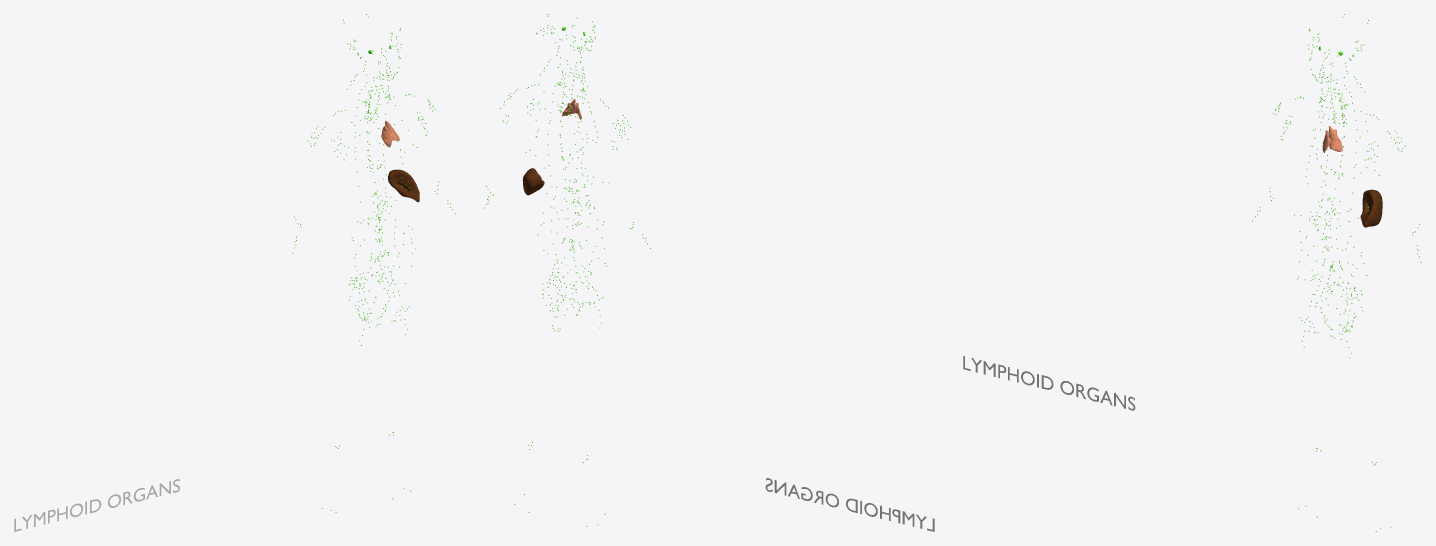
Rendered from lymphatic.glb.
3 views of the same model, side by side, from view 1: azimuth 30°, elevation 25°; view 2: azimuth 150°, elevation 25°; view 3: azimuth 330°, elevation 25° (orthographic). The views are drawn at different scales.
Parts seen in each view (by area): view 1: Lymphoid organs.g.001, Spleen.001; view 2: Lymphoid organs.g.001; view 3: Lymphoid organs.g.001, Spleen.001.
Part boxes in pixels (left/top/right/bottom): Lymphoid organs.g.001: left=14, top=479, right=179, bottom=531; Spleen.001: left=388, top=169, right=419, bottom=202; Lymphoid organs.g.001: left=765, top=478, right=934, bottom=531; Lymphoid organs.g.001: left=963, top=356, right=1135, bottom=410; Spleen.001: left=1360, top=189, right=1382, bottom=227.
Bounding box in the file's own units: 1.22 × 1.28 × 0.1963.
